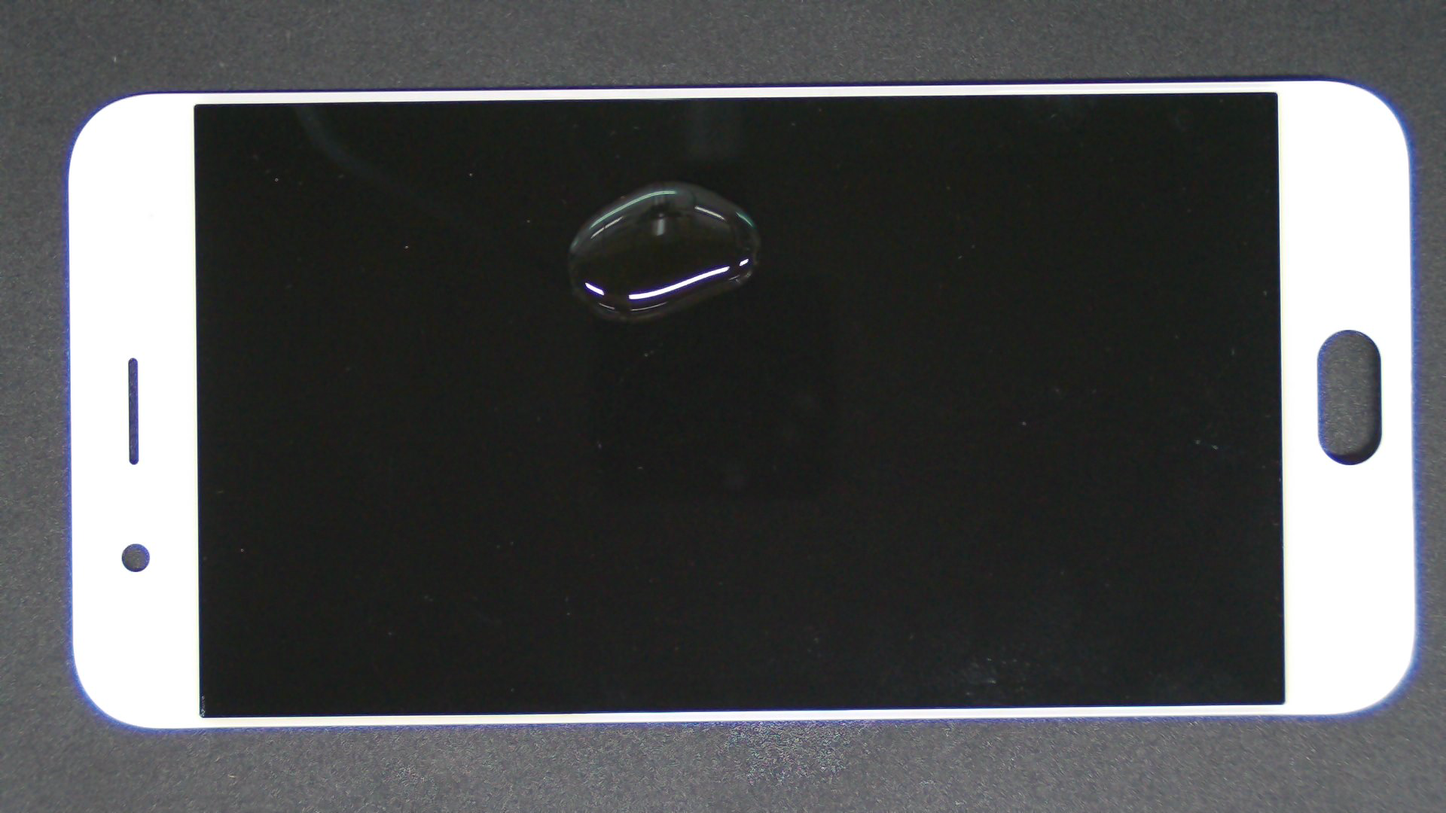oil: (532, 145, 812, 359)
